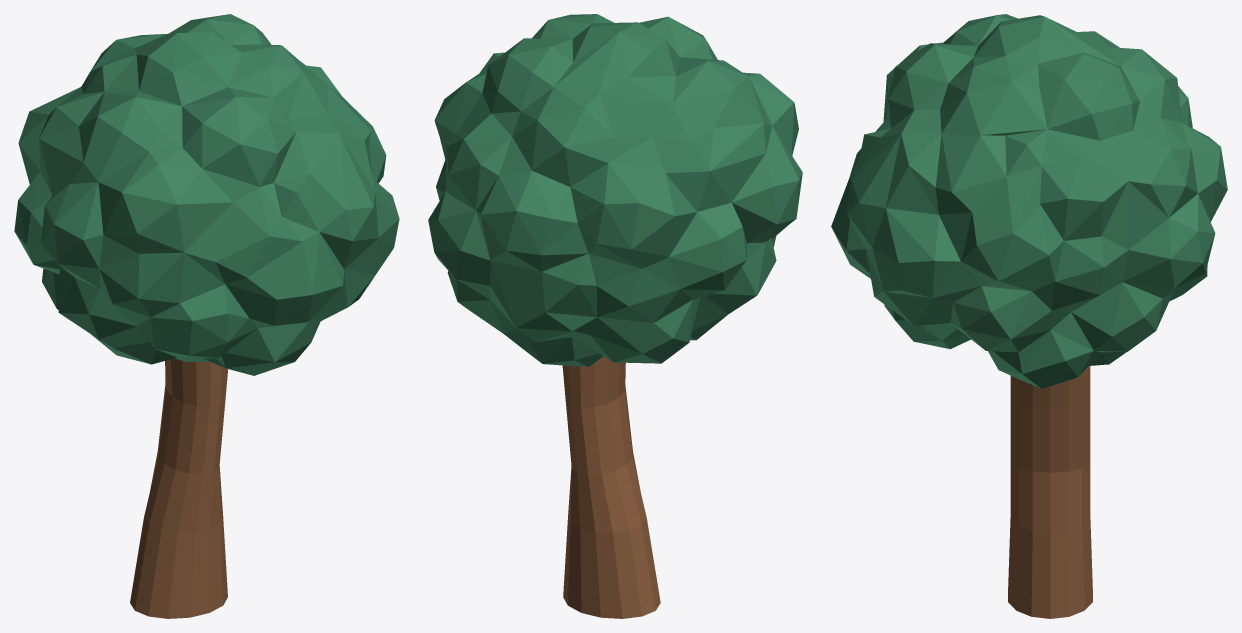
File: SM_Tree.fbx
3 renders of one model, left to right at view 1: azimuth 30°, elevation 25°; view 2: azimuth 150°, elevation 25°; view 3: azimuth 270°, elevation 25°, orthographic.
Visible parts, largest first — view 1: SM_Tree; view 2: SM_Tree; view 3: SM_Tree.
Boxes of the visible parts, bbox=[...] form: SM_Tree: bbox=[14, 14, 399, 618]; SM_Tree: bbox=[428, 14, 802, 618]; SM_Tree: bbox=[831, 14, 1227, 618].
Bounding box in the file's own units: 254 × 412 × 256.
1 material, 1 textured.
